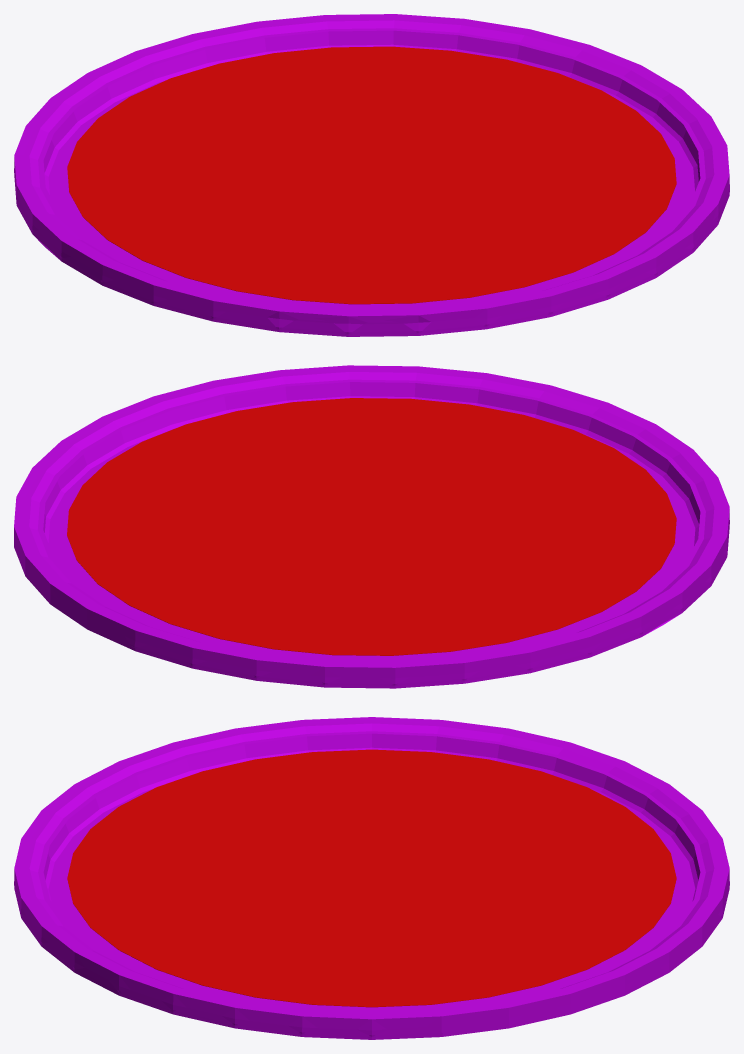
The model's file is BlatPizza.fbx.
The picture shows the model from 3 angles, top to bottom: view 1: azimuth 30°, elevation 25°; view 2: azimuth 150°, elevation 25°; view 3: azimuth 270°, elevation 25°; orthographic projection.
Visible parts, largest first — view 1: Cylinder.001, Cylinder; view 2: Cylinder.001, Cylinder; view 3: Cylinder.001, Cylinder.
Part boxes in pixels (x1,y1,x2,y2): Cylinder.001: [67, 46, 676, 304]; Cylinder: [14, 14, 729, 336]; Cylinder.001: [67, 398, 676, 655]; Cylinder: [14, 365, 729, 688]; Cylinder.001: [67, 749, 676, 1007]; Cylinder: [14, 717, 729, 1039].
Size of the model in its own units: 3526 by 126 by 3526.
